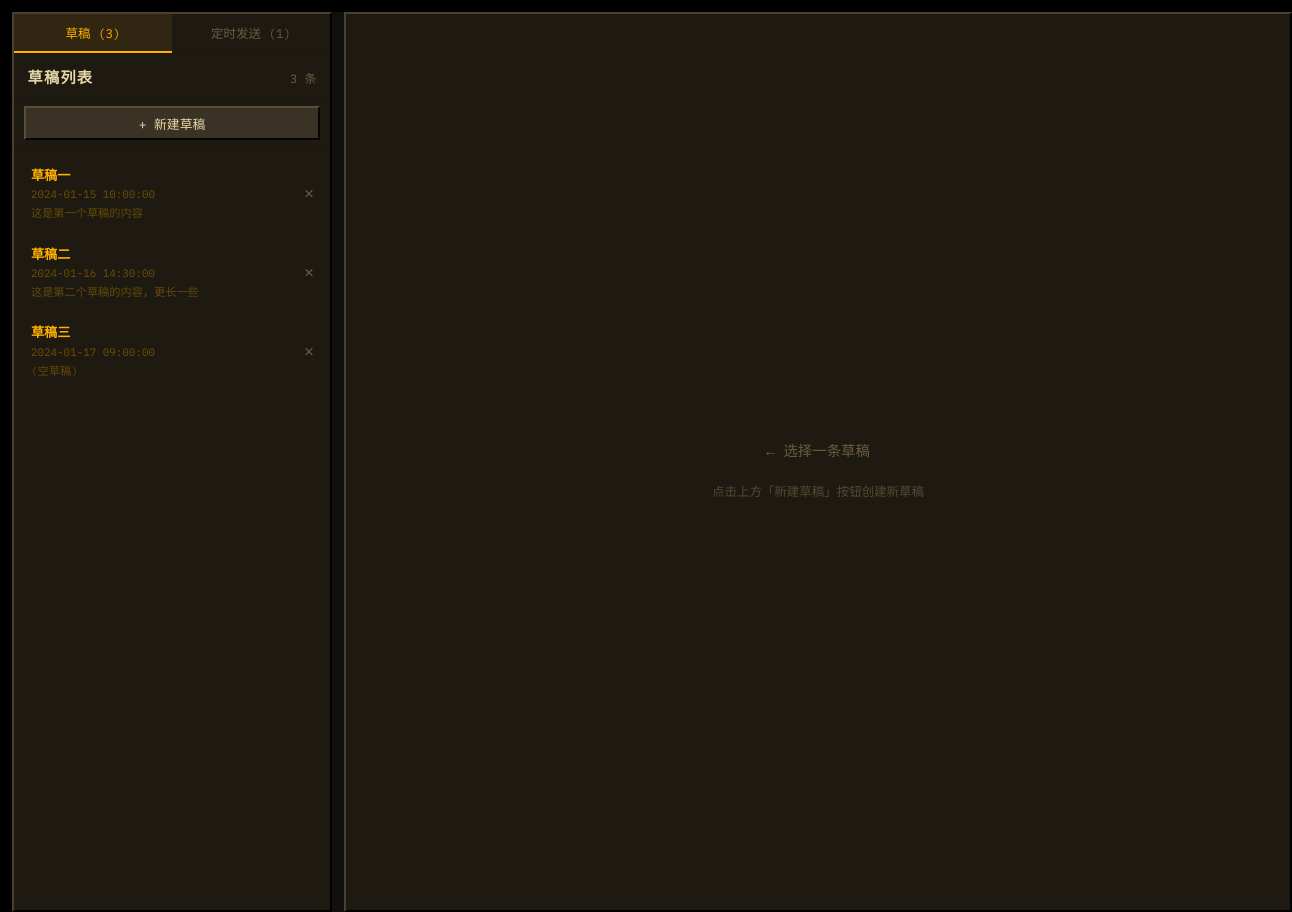
Test: DraftPage › 删除草稿 › 点击删除按钮应该显示确认对话框
Click the button named "删除草稿".
click(309, 192)  # box 295,156 -> 323,229
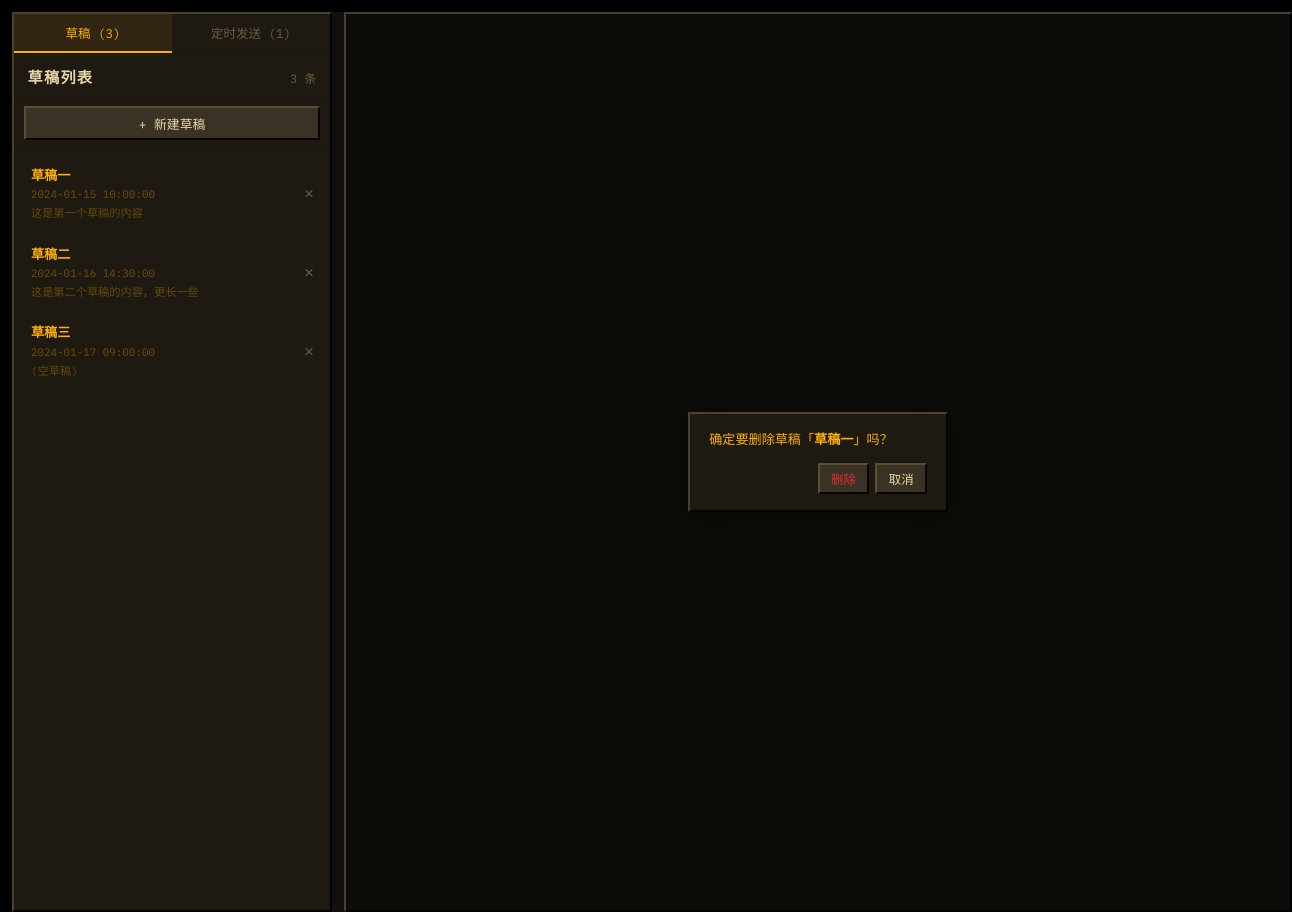
Expected: the text "确定要删除草稿「草稿一」吗？ 删除 取消" is shown, 688,412 -> 948,512
Expected: the text "草稿一" next to "确定要删除草稿「" is shown, 814,431 -> 853,448
